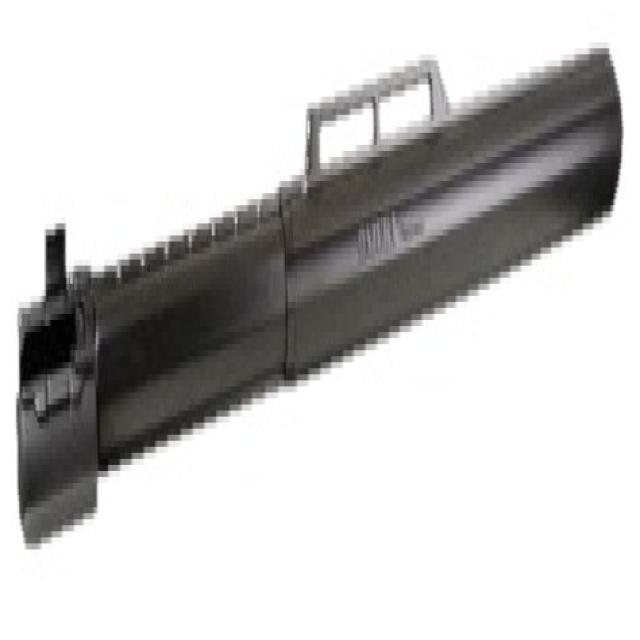bazooka: (11, 36, 628, 575)
